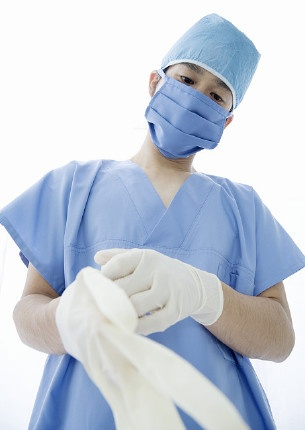Mask: (156, 67, 230, 141)
